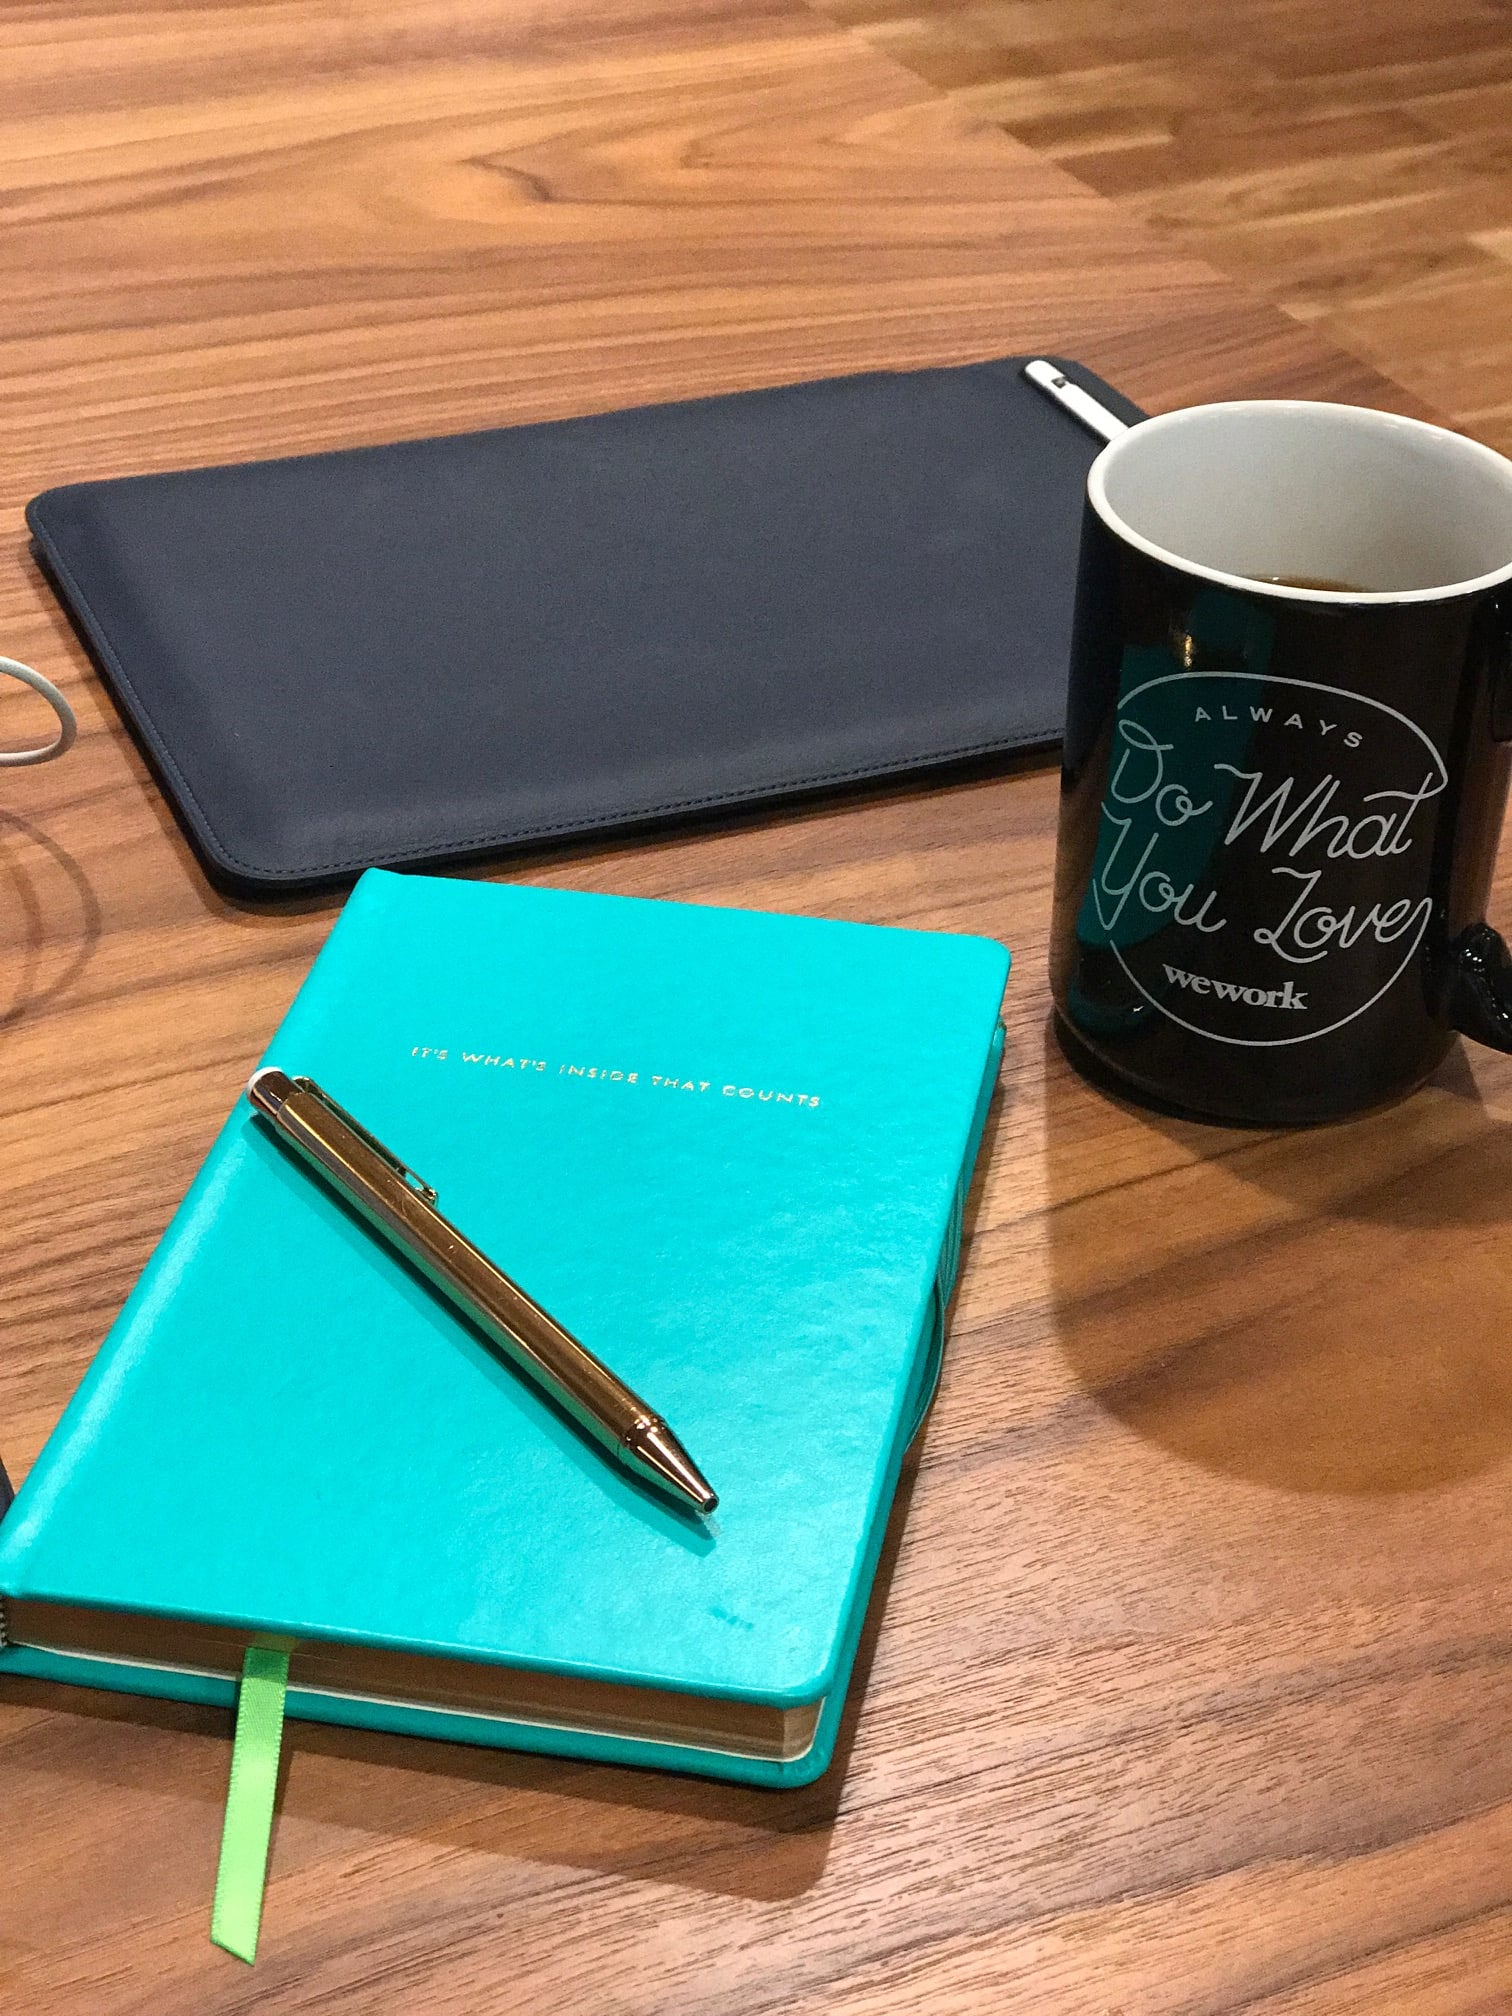wework: (1159, 959, 1309, 1014)
